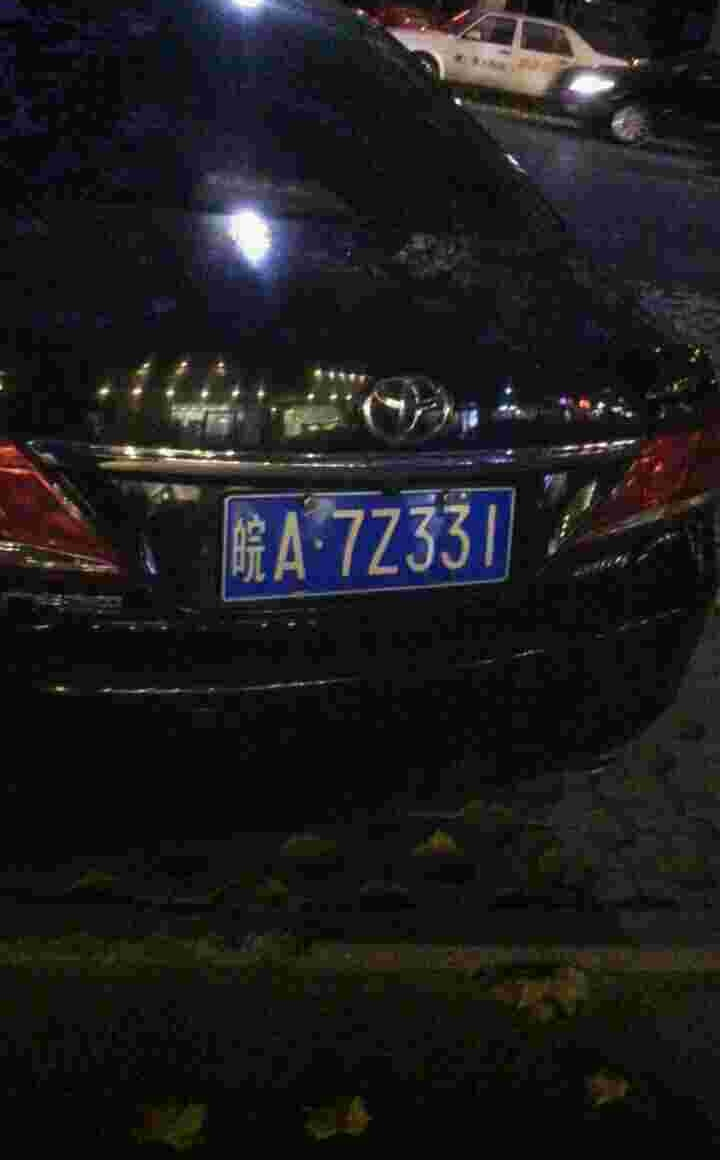license_plate: (208, 487, 516, 601)
